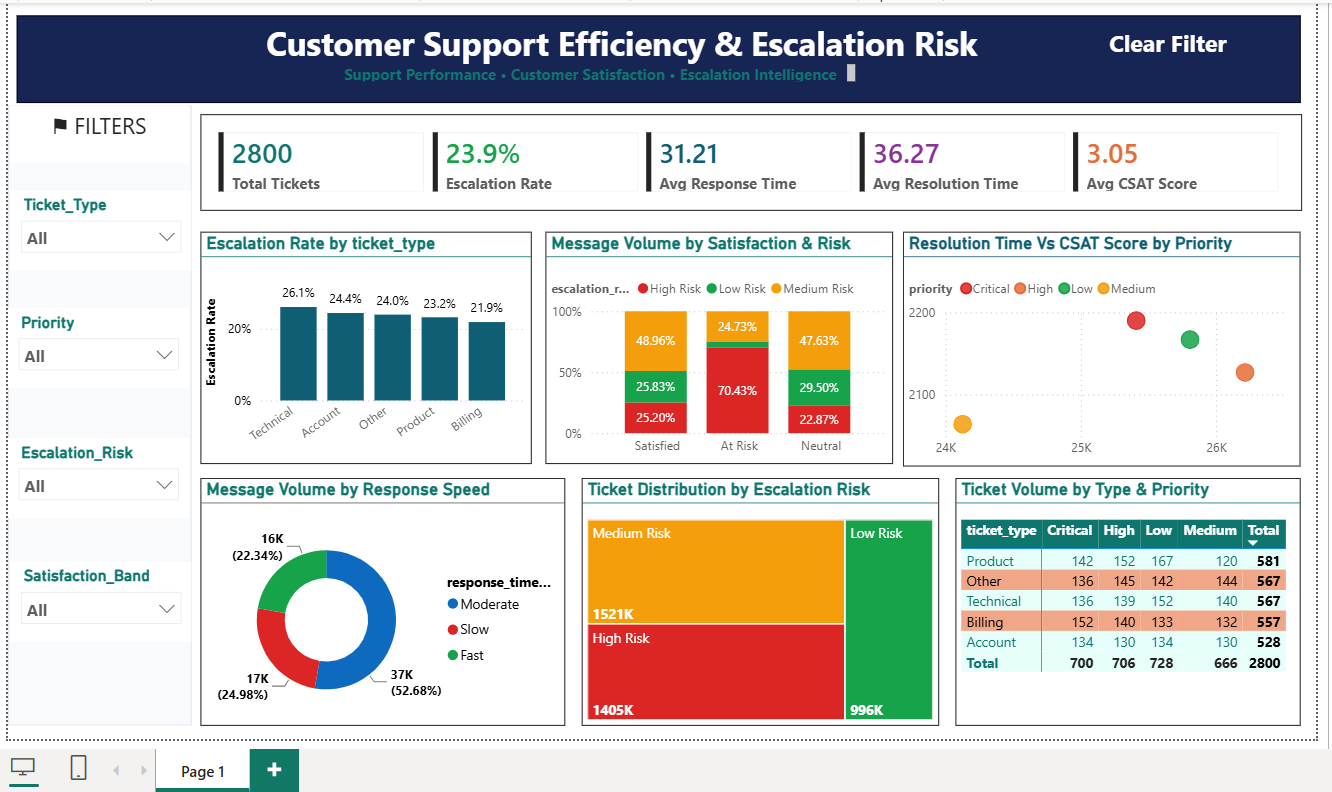

The page's visual inventory and layout, read from the dashboard file:
{"tool":"powerbi","page":{"name":"⭐ Support Performance Overview","canvas":[1280,720],"ordinal":0},"visuals":[{"type":"textbox","box":[8.6,12.2,1255.8,85.6],"z":0},{"type":"cardVisual","fields":{"Data":["Measures (2).Total Tickets","Measures (2).Escalation Rate","Measures (2).Avg Response Time","Measures (2).Avg Resolution Time","Measures (2).Avg CSAT Score"]},"box":[188.3,108.8,1077.3,94.2],"z":1000},{"type":"clusteredColumnChart","fields":{"Category":["customer_support customer_support_tickets.ticket_type"],"Y":["Measures (2).Escalation Rate"]},"box":[205.9,204.5,324.1,227.4],"z":2000},{"type":"donutChart","title":"Message Volume by Response Speed","fields":{"Category":["customer_support customer_support_tickets.response_time_band"],"Y":["Sum(customer_support customer_support_tickets.messages_count)"]},"box":[189.2,432.7,359,221.2],"z":3000},{"type":"hundredPercentStackedColumnChart","title":"Message Volume by Satisfaction  & Risk","fields":{"Category":["customer_support customer_support_tickets.satisfaction_band"],"Y":["Sum(customer_support customer_support_tickets.messages_count)"],"Series":["customer_support customer_support_tickets.escalation_risk"]},"box":[534.3,205.9,339.9,227.4],"z":4000},{"type":"scatterChart","title":"Resolution Time Vs CSAT Score by Priority","fields":{"X":["Sum(customer_support customer_support_tickets.resolution_time_hours)"],"Y":["Sum(customer_support customer_support_tickets.customer_satisfaction_score)"],"Size":["Sum(customer_support customer_support_tickets.messages_count)"],"Series":["customer_support customer_support_tickets.priority"]},"box":[873.7,203.1,388.9,229.9],"z":5000},{"type":"treemap","title":"Ticket Distribution by Escalation Risk","fields":{"Group":["customer_support customer_support_tickets.escalation_risk"],"Values":["Sum(customer_support customer_support_tickets.ticket_id)"]},"box":[551,434.1,357.6,215.7],"z":6000},{"type":"pivotTable","title":"Ticket Volume by  Type & Priority","fields":{"Rows":["customer_support customer_support_tickets.ticket_type"],"Columns":["customer_support customer_support_tickets.priority"],"Values":["CountNonNull(customer_support customer_support_tickets.ticket_id)"]},"box":[918.3,439.7,361.7,205.9],"z":7000},{"type":"textbox","box":[324.1,55,509.9,26.9],"z":8000},{"type":"shape","box":[0,100.3,179.8,606.5],"z":8001},{"type":"slicer","fields":{"Values":["customer_support customer_support_tickets.ticket_type"]},"box":[2.7,183.9,177,78.2],"z":8004},{"type":"slicer","fields":{"Values":["customer_support customer_support_tickets.priority"]},"box":[0,297.8,177,78.2],"z":8005},{"type":"slicer","fields":{"Values":["customer_support customer_support_tickets.escalation_risk"]},"box":[0,425.4,177,78.2],"z":8006},{"type":"slicer","fields":{"Values":["customer_support customer_support_tickets.satisfaction_band"]},"box":[2.7,546.1,177,78.2],"z":8007},{"type":"textbox","box":[2.7,100.2,174.3,56.3],"z":8008},{"type":"actionButton","title":"↻ Clear Filter","box":[1039.4,23.2,190.8,45.2],"z":8009},{"type":"shape","box":[189.2,653.9,1072.7,66.8],"z":8010},{"type":"textbox","title":"💡Key Insights","box":[205.9,653.9,1046.3,61.2],"z":8011}]}

Visuals, with their boxes on the page's 1280x720 design canvas (x1, y1, x2, y2). These are canvas units, not pixel positions in the 1332x792 screenshot, which may show the page scaled, cropped or inside an application window:
textbox: [9,12,1264,98]
cardVisual - Measures (2).Total Tickets x Measures (2).Escalation Rate: [188,109,1266,203]
clusteredColumnChart - customer_support customer_support_tickets.ticket_type x Measures (2).Escalation Rate: [206,204,530,432]
"Message Volume by Response Speed" donutChart: [189,433,548,654]
"Message Volume by Satisfaction  & Risk" hundredPercentStackedColumnChart: [534,206,874,433]
"Resolution Time Vs CSAT Score by Priority" scatterChart: [874,203,1263,433]
"Ticket Distribution by Escalation Risk" treemap: [551,434,909,650]
"Ticket Volume by  Type & Priority" pivotTable: [918,440,1280,646]
textbox: [324,55,834,82]
shape: [0,100,180,707]
slicer - customer_support customer_support_tickets.ticket_type: [3,184,180,262]
slicer - customer_support customer_support_tickets.priority: [0,298,177,376]
slicer - customer_support customer_support_tickets.escalation_risk: [0,425,177,504]
slicer - customer_support customer_support_tickets.satisfaction_band: [3,546,180,624]
textbox: [3,100,177,156]
"↻ Clear Filter" actionButton: [1039,23,1230,68]
shape: [189,654,1262,721]
"💡Key Insights" textbox: [206,654,1252,715]
